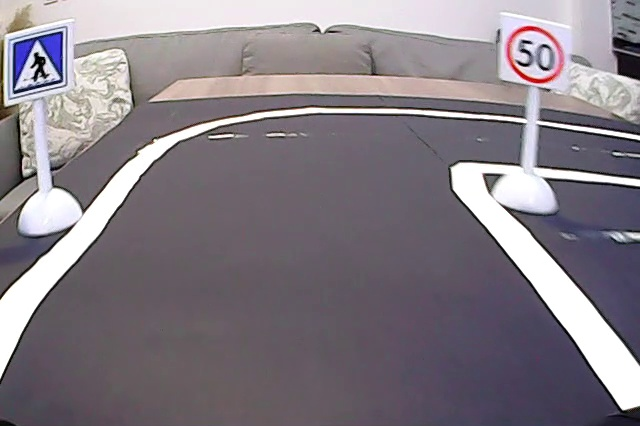pedestrian crossing: (7, 34, 67, 97)
speed limit 50: (504, 16, 567, 85)
